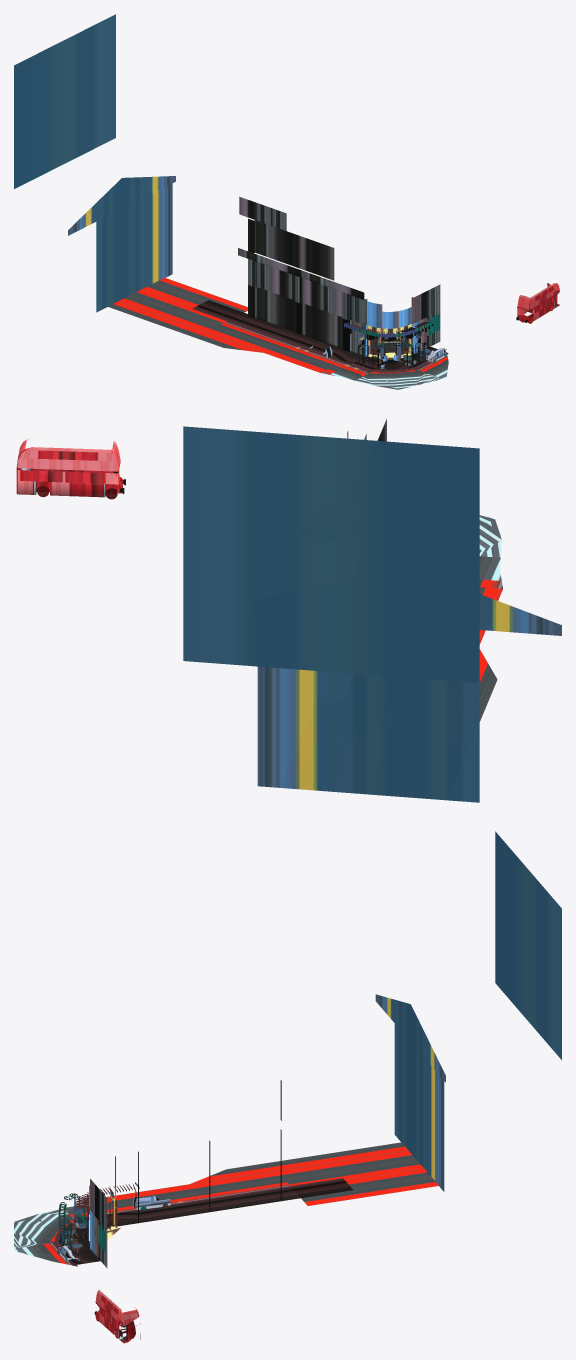
File: cvs2london2.glb
3 views of the same model, one above another, from view 1: azimuth 30°, elevation 25°; view 2: azimuth 150°, elevation 25°; view 3: azimuth 270°, elevation 25° (orthographic). The views are drawn at different scales.
Visible parts, largest first — view 1: Mesh_395.002, Mesh_413.002, Mesh_149.005, Mesh_81.002, Mesh_412.002, Mesh_148.005, Mesh_357.002, Mesh_80.002, NurbsPath, Mesh_79.002, Mesh_414.002, Mesh_78.002 (+9 smaller); view 2: Mesh_395.002, Mesh_413.002, NurbsPath, Mesh_412.002, Mesh_402.002, Mesh_75.002; view 3: Mesh_395.002, Mesh_413.002, Mesh_81.002, Mesh_357.002, Mesh_80.002, Mesh_412.002, NurbsPath, Mesh_78.002, Mesh_79.002, Mesh_69.002, Mesh_74.002, Mesh_414.002 (+1 smaller).
Boxes of the visible parts, left/top/right/bottom form: Mesh_395.002: left=14, top=14, right=115, bottom=188; Mesh_413.002: left=96, top=194, right=172, bottom=312; Mesh_149.005: left=255, top=292, right=342, bottom=348; Mesh_81.002: left=118, top=295, right=331, bottom=372; Mesh_412.002: left=69, top=176, right=175, bottom=229; Mesh_148.005: left=255, top=220, right=317, bottom=274; Mesh_357.002: left=213, top=314, right=342, bottom=350; Mesh_80.002: left=107, top=301, right=233, bottom=347; NurbsPath: left=517, top=283, right=559, bottom=323; Mesh_79.002: left=218, top=321, right=341, bottom=366; Mesh_414.002: left=96, top=183, right=172, bottom=232; Mesh_78.002: left=130, top=289, right=226, bottom=325; Mesh_395.002: left=183, top=426, right=479, bottom=682; Mesh_413.002: left=257, top=666, right=479, bottom=802; NurbsPath: left=16, top=438, right=123, bottom=499; Mesh_412.002: left=479, top=594, right=561, bottom=625; Mesh_402.002: left=479, top=619, right=561, bottom=635; Mesh_75.002: left=479, top=519, right=501, bottom=551; Mesh_395.002: left=495, top=831, right=561, bottom=1059; Mesh_413.002: left=394, top=1037, right=444, bottom=1191; Mesh_81.002: left=106, top=1150, right=416, bottom=1206; Mesh_357.002: left=146, top=1182, right=312, bottom=1221; Mesh_80.002: left=226, top=1142, right=408, bottom=1177; Mesh_412.002: left=376, top=994, right=445, bottom=1082; NurbsPath: left=95, top=1290, right=140, bottom=1343; Mesh_78.002: left=285, top=1159, right=423, bottom=1185; Mesh_79.002: left=112, top=1180, right=289, bottom=1212; Mesh_69.002: left=301, top=1184, right=394, bottom=1205; Mesh_74.002: left=345, top=1168, right=431, bottom=1189; Mesh_414.002: left=394, top=1023, right=444, bottom=1093.
Size of what is drawn, in the model's own units: 510 by 280 by 498.
Materials: 1270 (1270 with a texture image).
